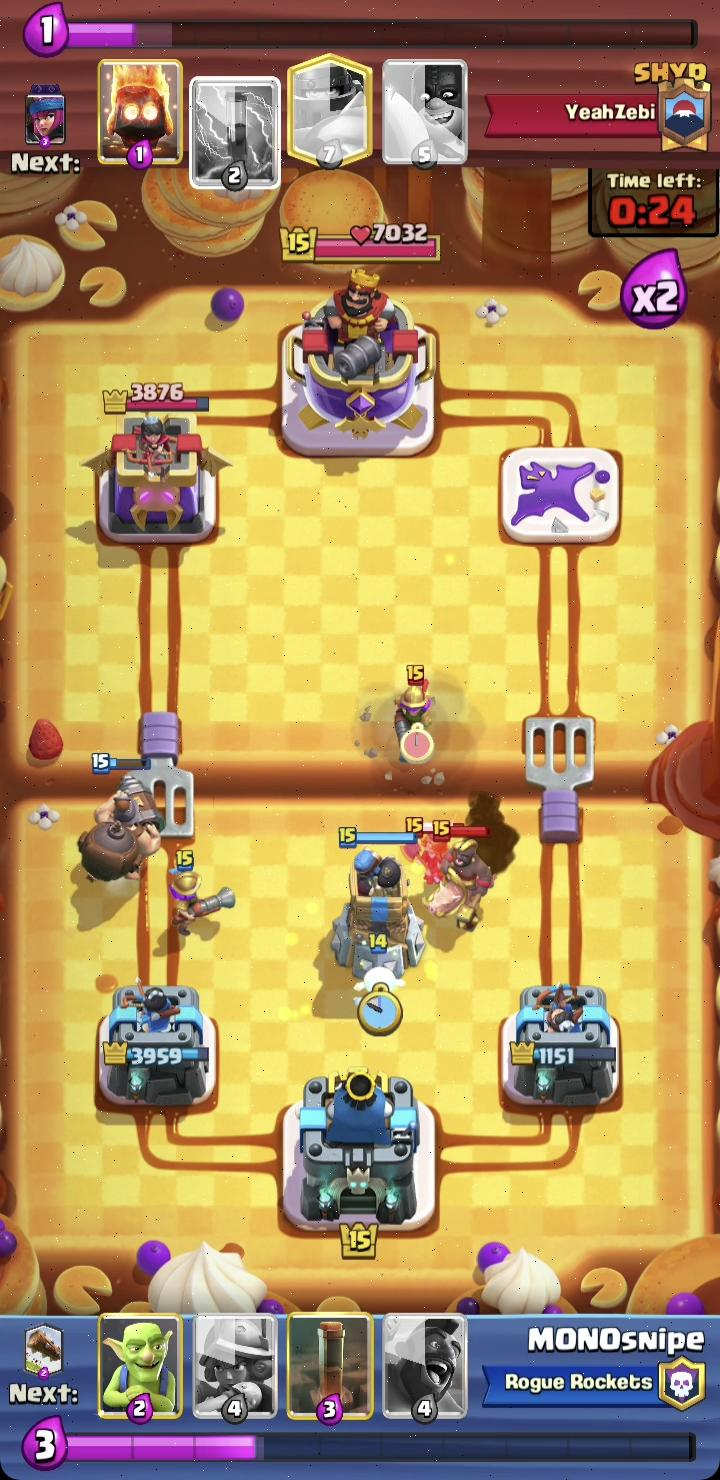EHogRider: (428, 827, 494, 929)
EKingTower: (281, 273, 436, 457)
EMusk: (394, 666, 435, 761)
EValk: (401, 820, 457, 886)
EnemyPrincessTower: (95, 384, 229, 544)
OBombertower: (331, 844, 424, 979)
OIceSpirit: (354, 950, 404, 1015)
OMightyMiner: (79, 767, 164, 881)
OMusk: (167, 851, 233, 937)
OwnKingTower: (283, 1071, 421, 1229)
OwnPrincessTower: (501, 985, 618, 1106), (100, 983, 215, 1106)
TowerDown: (501, 448, 619, 545)
